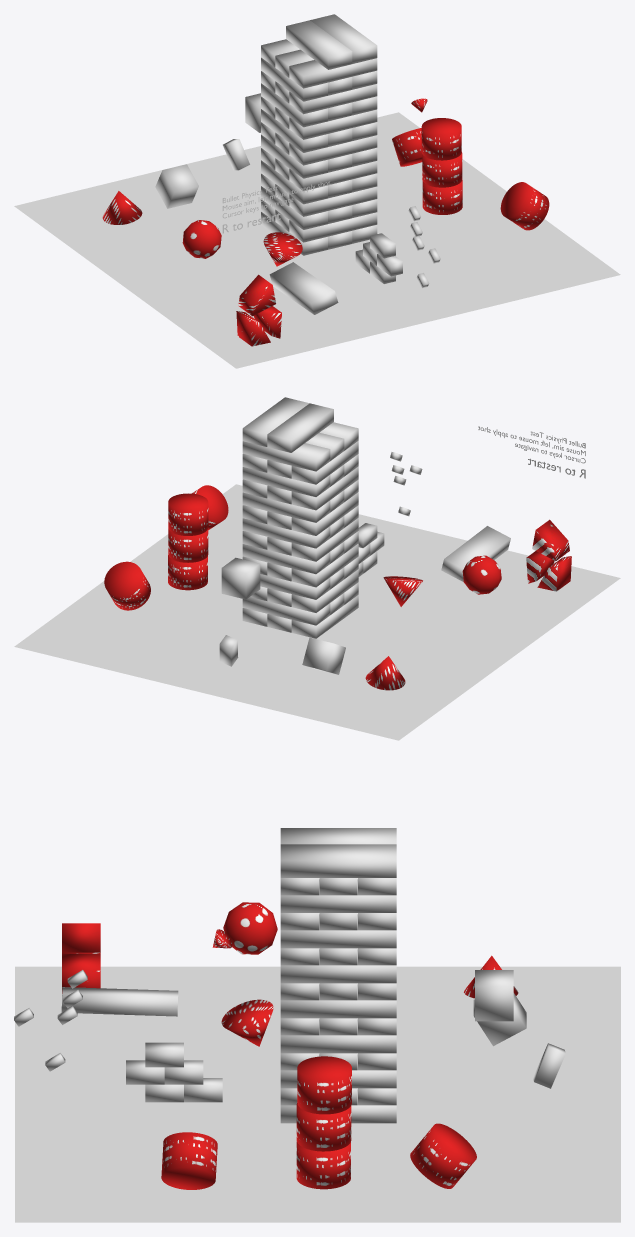
Rendered from jenga.dae.
3 views of the same model, one above another, from view 1: azimuth 30°, elevation 25°; view 2: azimuth 150°, elevation 25°; view 3: azimuth 270°, elevation 25° (orthographic). The views are drawn at different scales.
Visible parts, largest first — view 1: Plane, Cube_047, Cube_045, Cylinder, Cylinder_001, Cube_040, Cube_046, Cube_068, Sphere, Cube_031, Cube_016, Cube_028 (+24 smaller); view 2: Plane, Cube_045, Cylinder_004, Cube_047, Cylinder_001, Cube_041, Cube_046, Cube_053, Sphere, Cube_020, Cube_008-Node, Cube_003-Node (+23 smaller); view 3: Plane, Cube_046, Cylinder_001, Cylinder, Cube_047, Cylinder_004, Cube_025, Cube_022, Cube_013, Cube_010, Sphere, Cube_001 (+33 smaller).
Boxes of the visible parts, x1,y1,x2,y2 form: Plane: [14, 112, 620, 368]; Cube_047: [269, 262, 338, 314]; Cube_045: [286, 20, 352, 69]; Cylinder: [500, 182, 549, 230]; Cylinder_001: [421, 118, 461, 160]; Cube_040: [289, 58, 377, 88]; Cube_046: [310, 14, 377, 63]; Cube_068: [155, 164, 198, 208]; Sphere: [182, 220, 221, 258]; Cube_031: [289, 212, 377, 242]; Cube_016: [289, 135, 377, 165]; Cube_028: [289, 186, 377, 216]; Plane: [14, 484, 620, 740]; Cube_045: [267, 403, 333, 452]; Cylinder_004: [104, 561, 150, 610]; Cube_047: [441, 526, 510, 581]; Cylinder_001: [168, 493, 208, 535]; Cube_041: [242, 441, 330, 471]; Cube_046: [242, 397, 309, 446]; Cube_053: [221, 557, 260, 599]; Sphere: [462, 555, 501, 594]; Cube_020: [242, 544, 330, 574]; Cube_008-Node: [242, 492, 330, 522]; Cube_003-Node: [242, 467, 330, 496]; Plane: [15, 966, 620, 1222]; Cube_046: [280, 844, 396, 877]; Cylinder_001: [297, 1056, 351, 1114]; Cylinder: [161, 1132, 217, 1189]; Cube_047: [61, 987, 178, 1016]; Cylinder_004: [410, 1123, 476, 1188]; Cube_025: [280, 1019, 396, 1053]; Cube_022: [280, 984, 396, 1018]; Cube_013: [280, 949, 396, 983]; Cube_010: [280, 914, 396, 948]; Sphere: [223, 902, 277, 954]; Cube_001: [280, 879, 396, 912].
Size of the model in its own units: 31.37 by 31.41 by 15.11.
